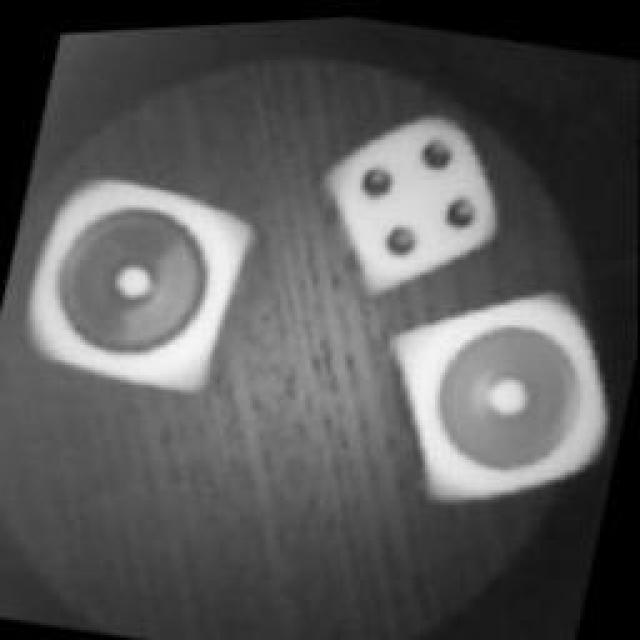dice_1: (368, 261, 632, 531), (12, 146, 256, 406)
dice_4: (310, 91, 515, 306)
